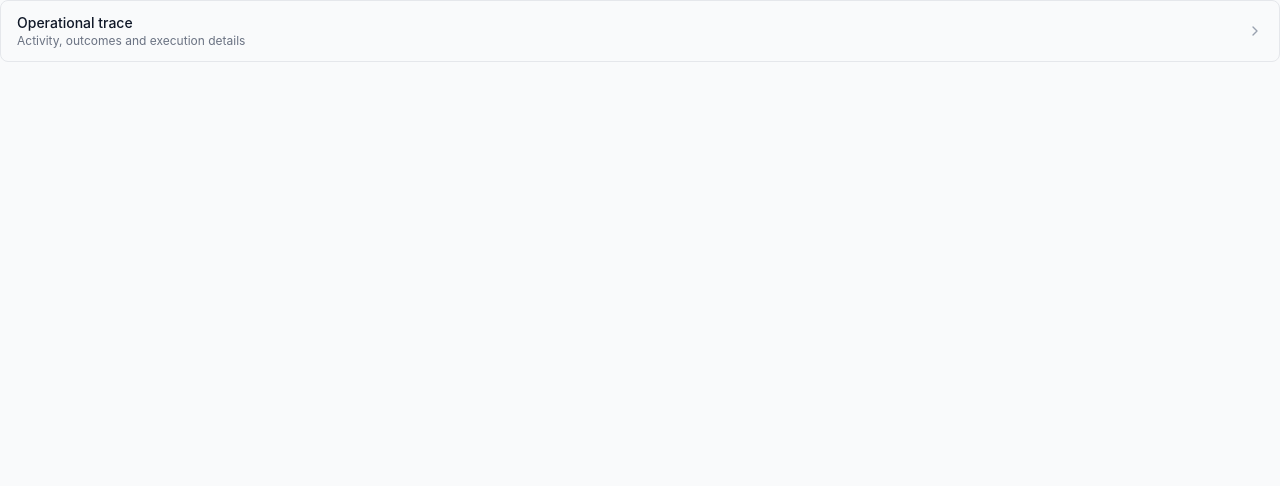
superadmin operational trace card › makes storage gaps visible instead of presenting a healthy empty log
Click the text "Operational trace" at (75, 22), box [17, 14, 133, 31]
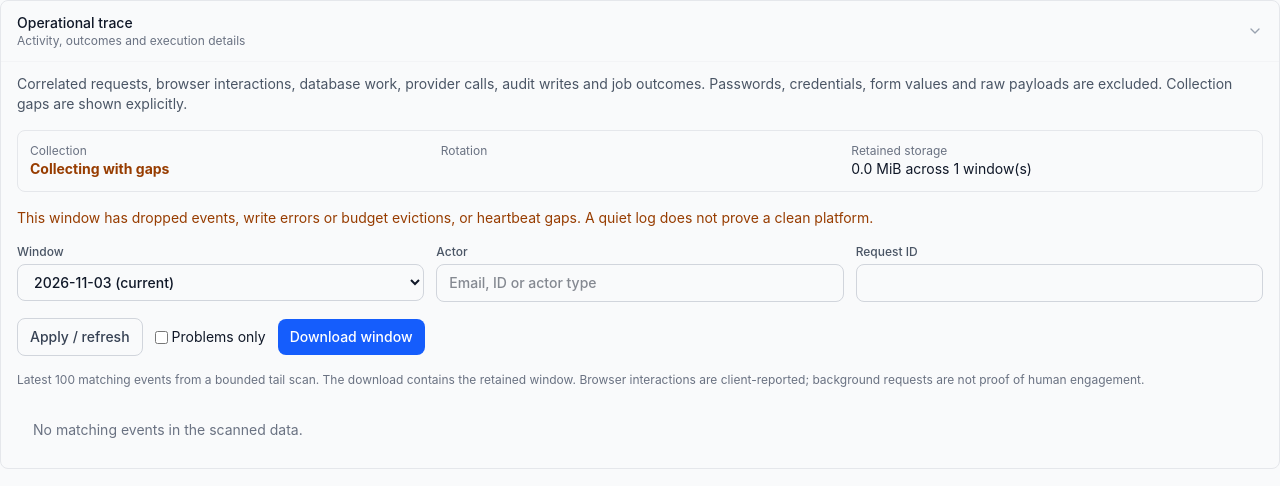
expect the text "Collecting with gaps" is shown: met, box [30, 160, 169, 177]
expect the message shows "dropped events": met, box [17, 209, 873, 226]
